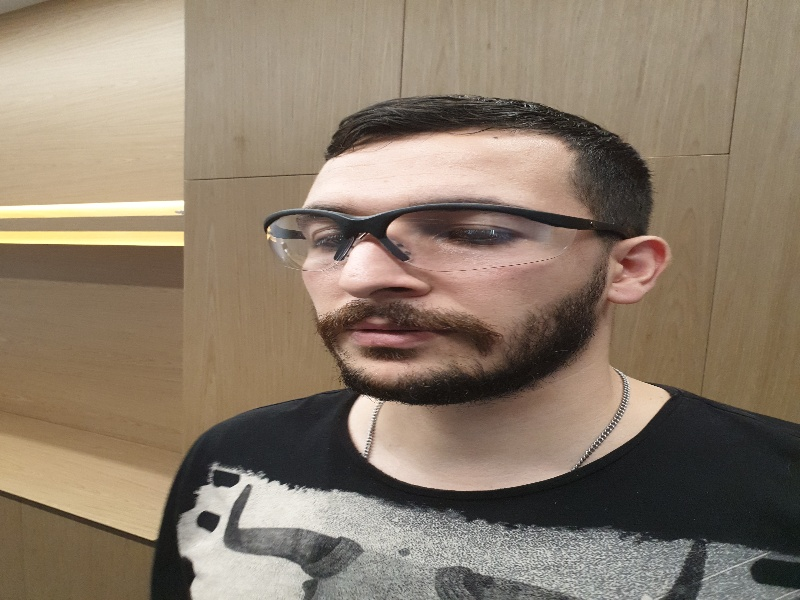Gozluk: (262, 198, 621, 268)
